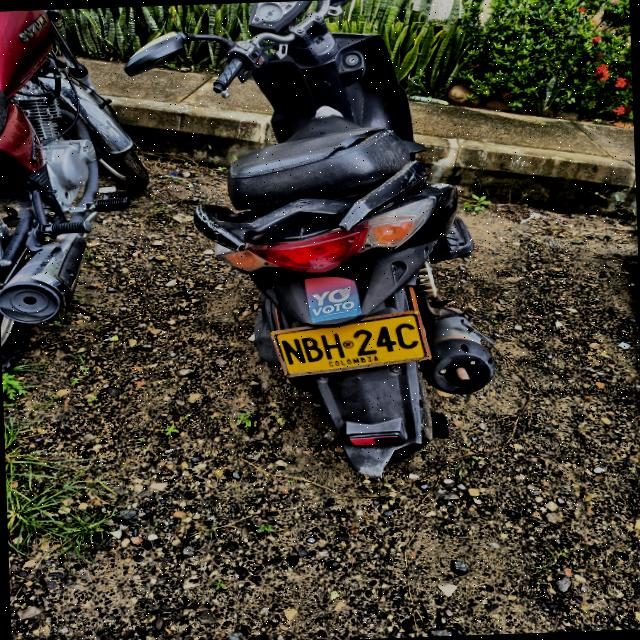plate: (272, 312, 429, 376)
